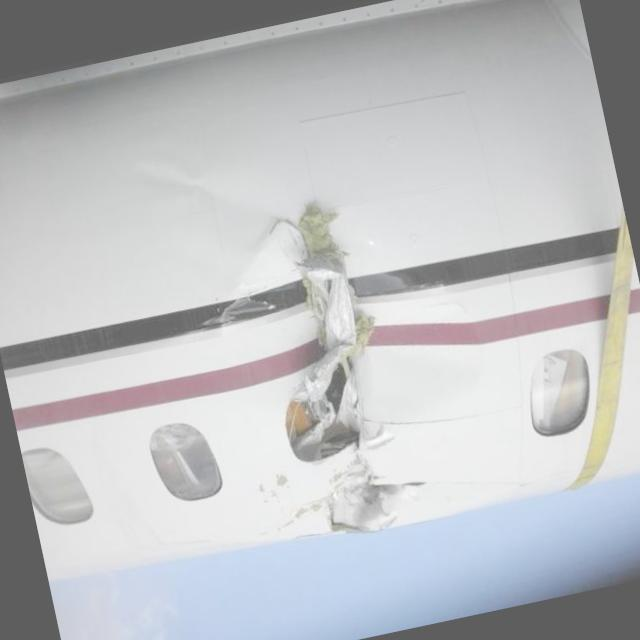crack: (208, 173, 450, 566)
dent: (336, 245, 497, 426), (118, 130, 284, 252)
